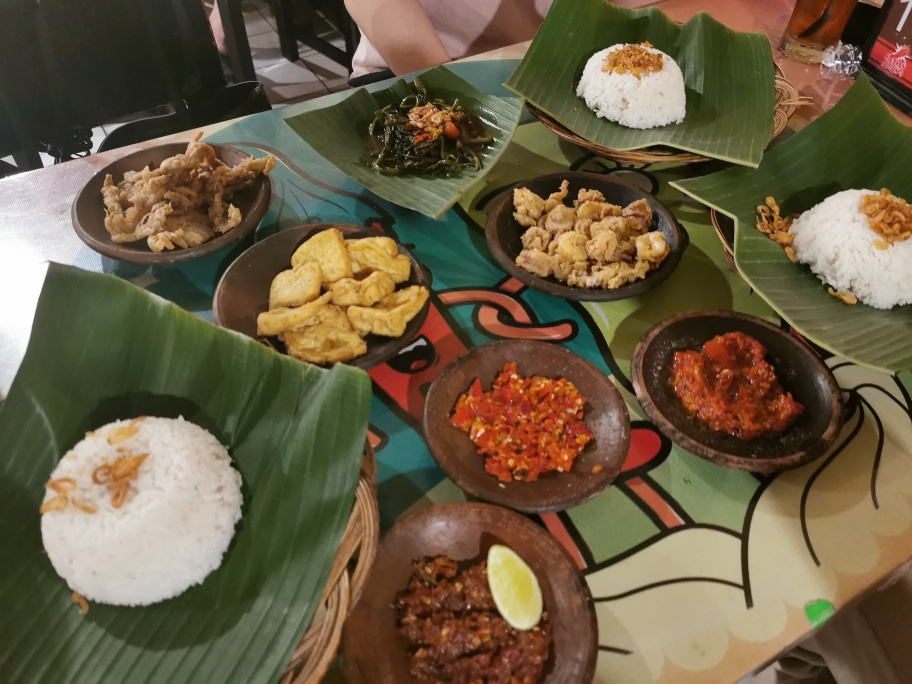nasi putih: (35, 412, 243, 605), (579, 42, 687, 127)
